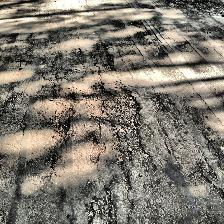pothole: (79, 80, 141, 132), (50, 86, 76, 140)
